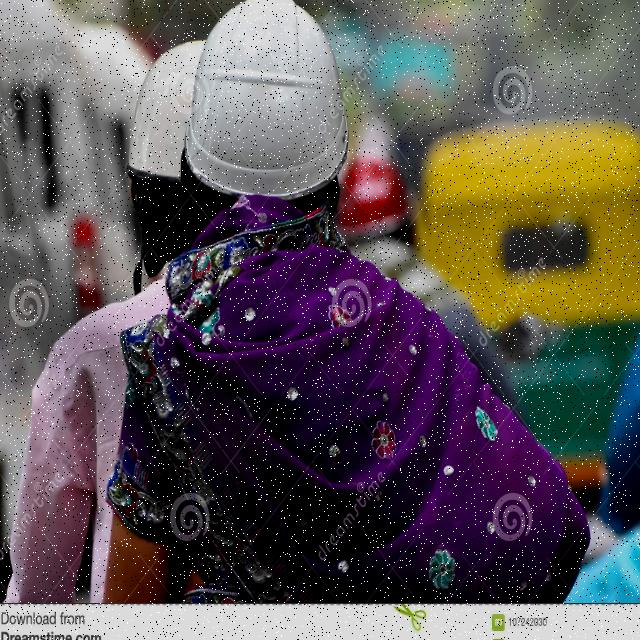not_triplets: (0, 11, 585, 604)
with-helmet: (189, 0, 353, 230)
